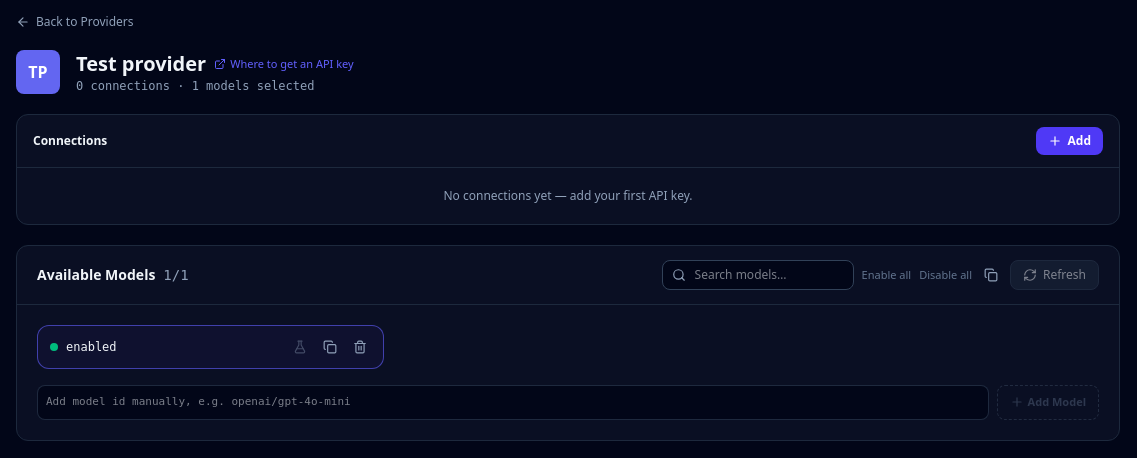
it: ProviderDetailPage: copy enabled model IDs › keeps single-ID and bulk-copy feedback independent
Click the button named "Copy model id". click: (330, 347)
box: [319,336,341,358]
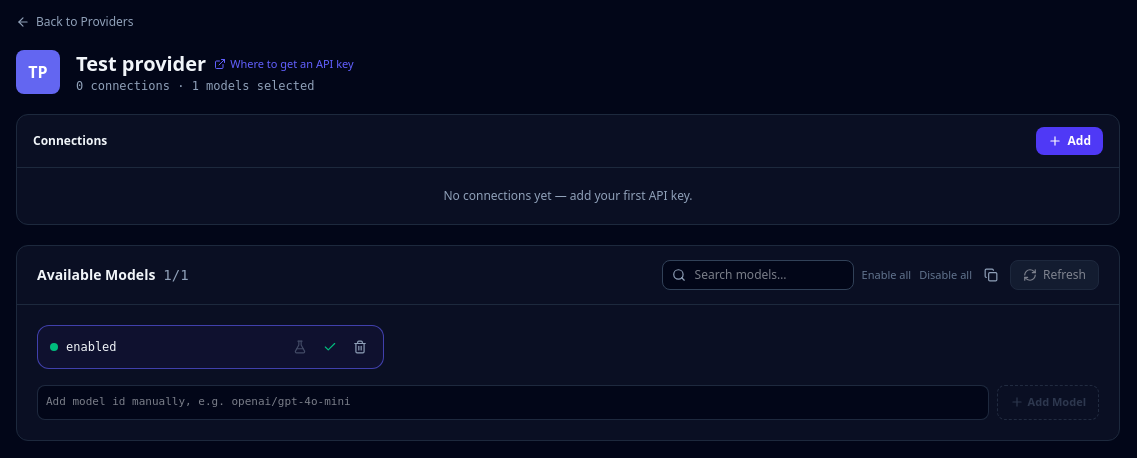
Expected: the icon with class "lucide-copy" is shown, [984,268,998,282]
Click the button named "Copy enabled IDs". click: (991, 275)
box: [980,264,1002,286]
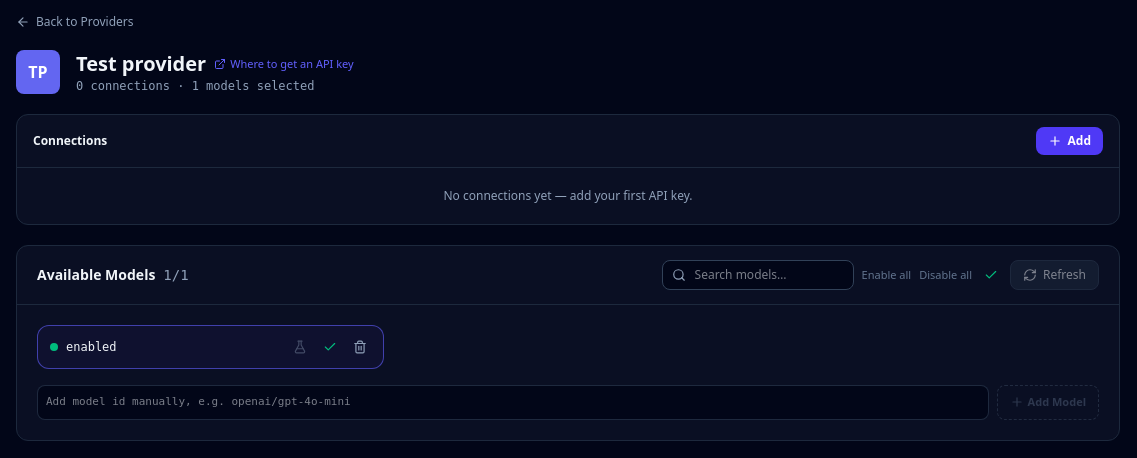
Expected: the 1st icon with class "lucide-check" is shown, [984,268,998,282]
